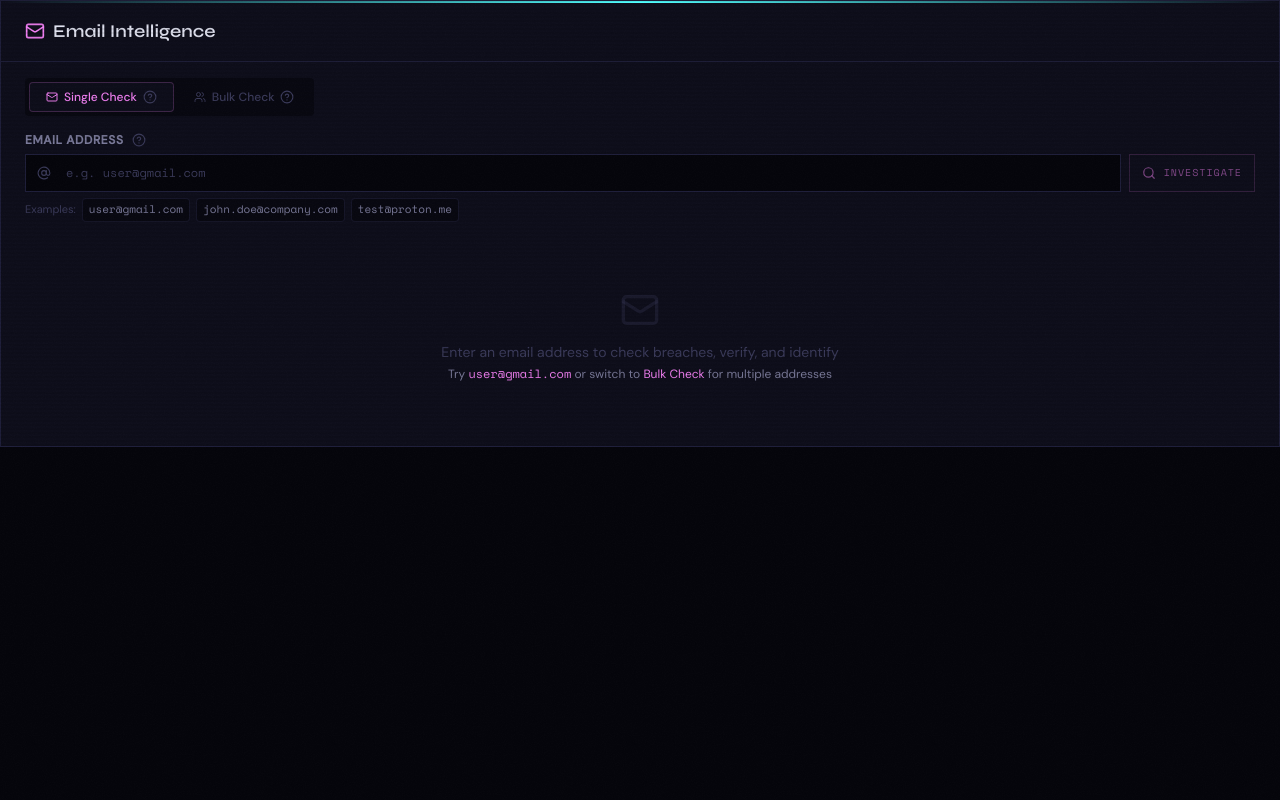
EmailOsintPanel › mode switch to bulk shows textarea
The image size is (1280, 800).
Click the 1st button "Bulk Check": [244, 97] box [178,82,310,112]
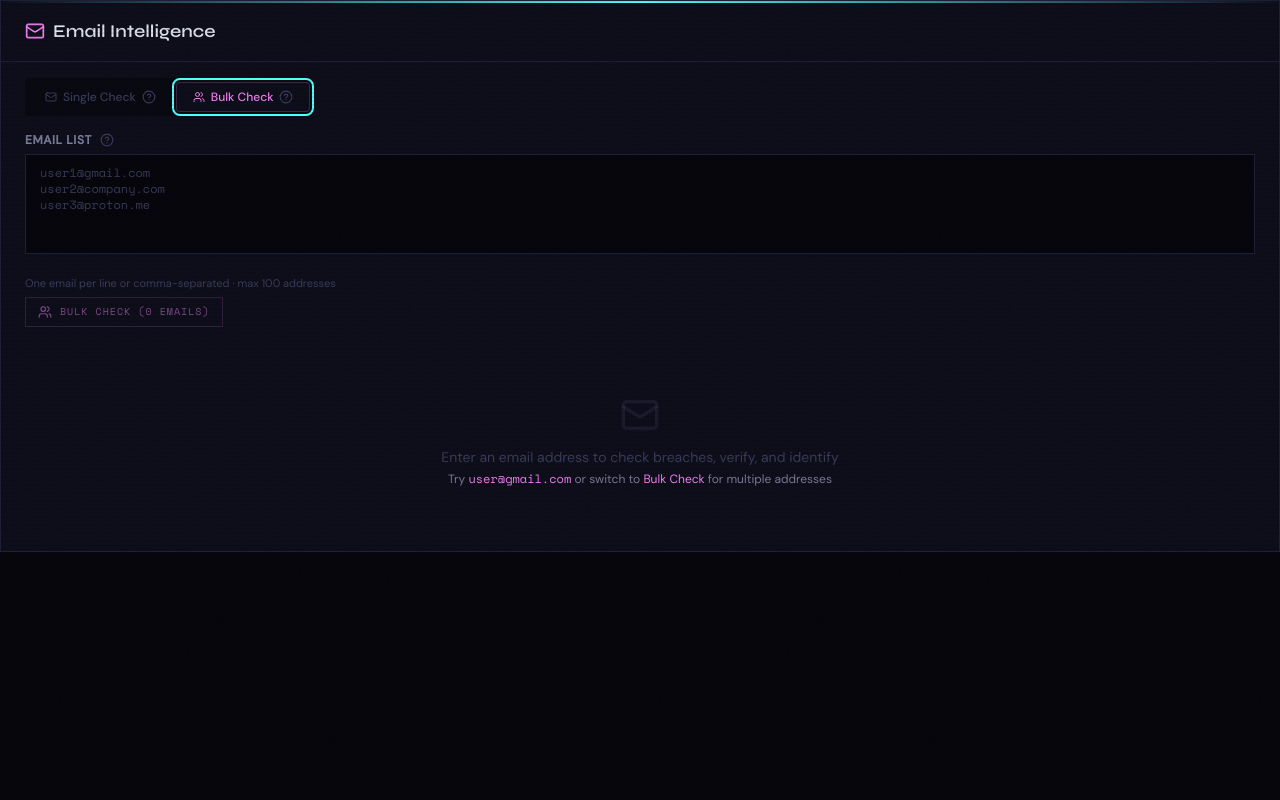
Now the text box with placeholder "user1@gmail.com user2@company.com user3@proton.me" is shown, box [25,154,1255,254]
